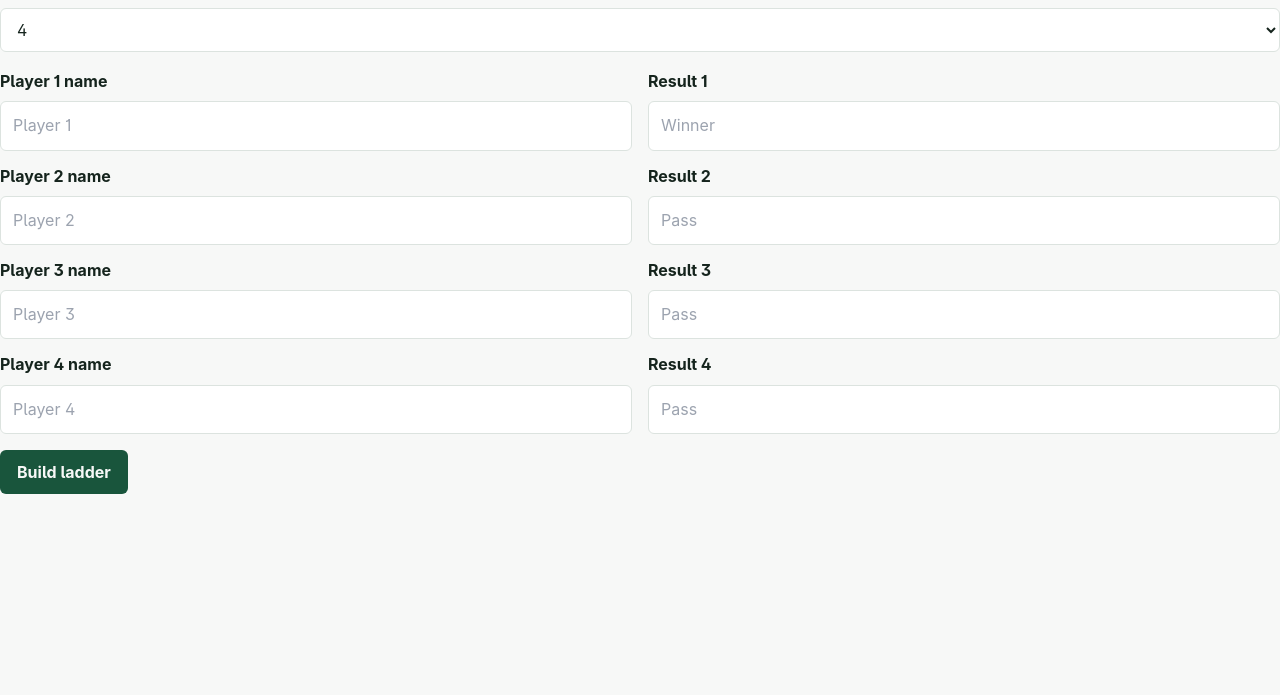
Test case: LadderGameTool › reveals every result at once
Click the button "Build ladder". click: (64, 472)
box: [0,450,128,494]
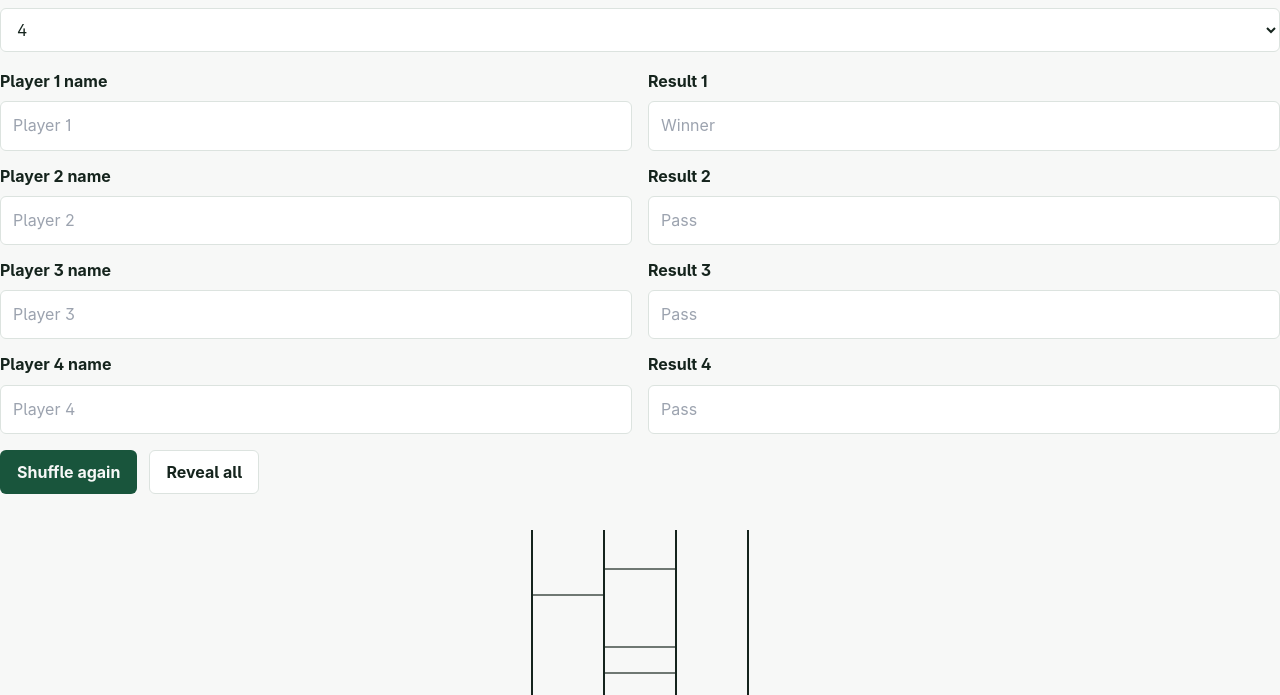
Click the button "Reveal all". click: (204, 472)
box: [149,450,259,494]
(page scrolled)
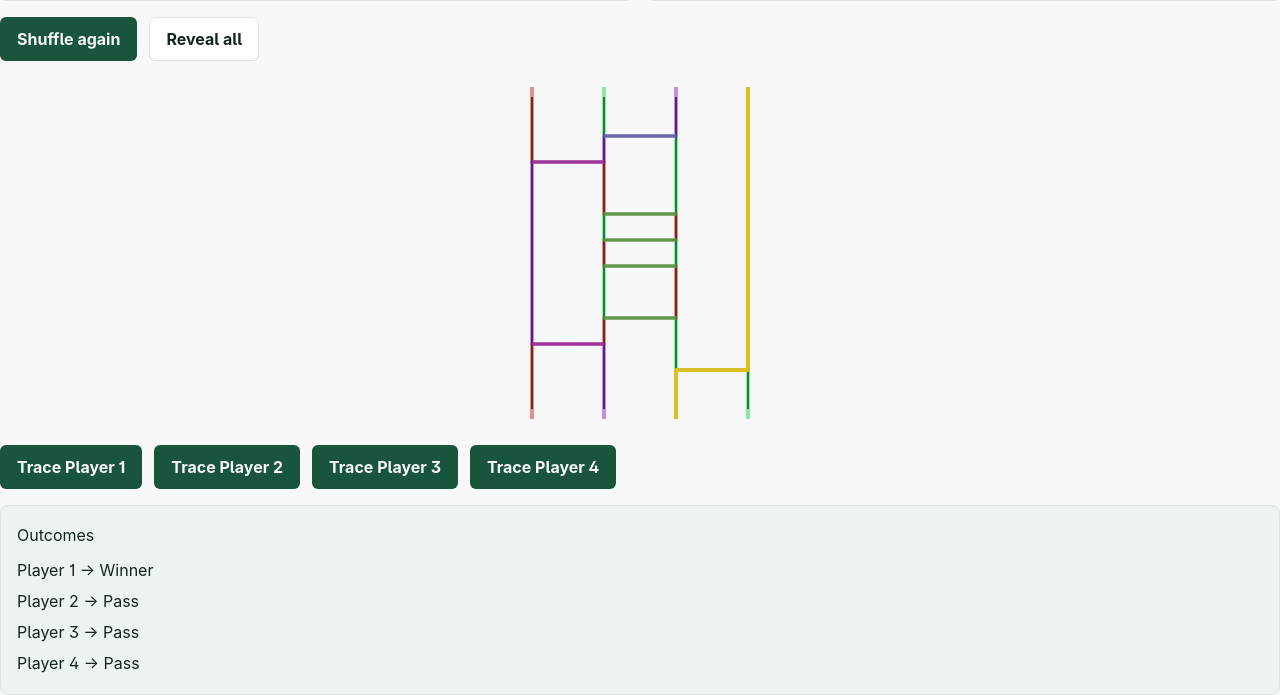
Now the list with test id "ladder-outcomes" shows "Player 1", box [17,560,154,580]
Now the list with test id "ladder-outcomes" shows "Player 3", box [17,622,139,642]
